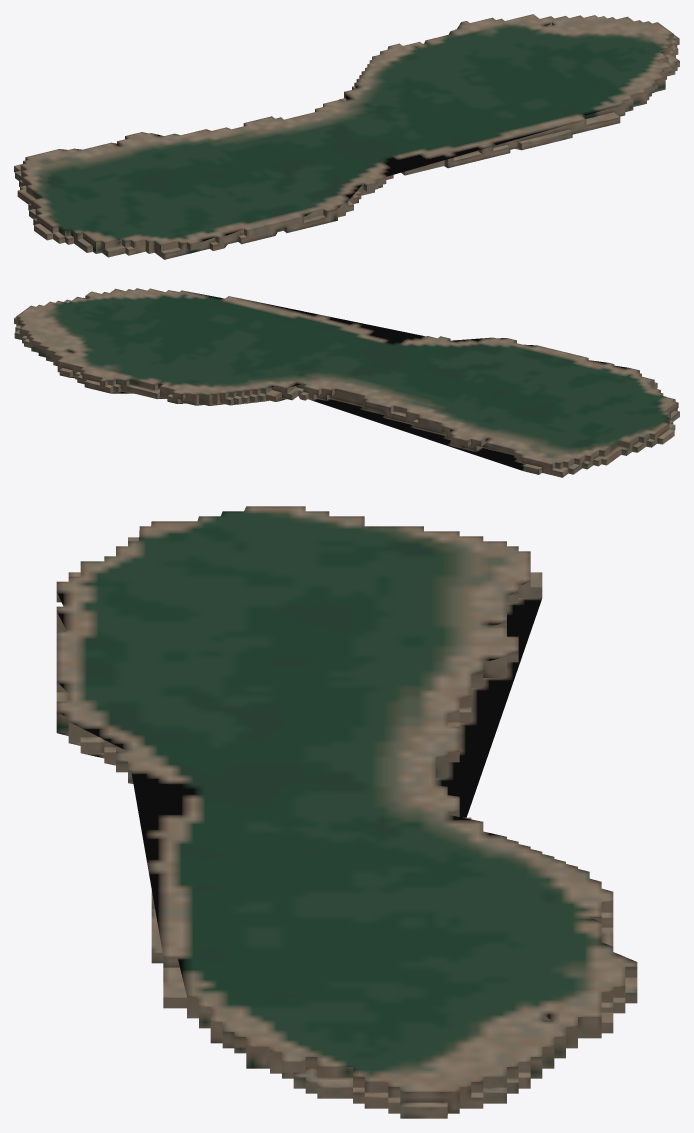
Rendered from ilhaXimba2.fbx.
3 views of the same model, one above another, from view 1: azimuth 30°, elevation 25°; view 2: azimuth 150°, elevation 25°; view 3: azimuth 270°, elevation 25° (orthographic). The views are drawn at different scales.
Visible parts, largest first — view 1: HeightMapMk2-Ximboso-1; view 2: HeightMapMk2-Ximboso-1; view 3: HeightMapMk2-Ximboso-1.
Part boxes in pixels (x1,y1,x2,y2): HeightMapMk2-Ximboso-1: (14,14,679,259); HeightMapMk2-Ximboso-1: (14,288,679,477); HeightMapMk2-Ximboso-1: (56,506,637,1118).
Bounding box in the file's own units: 1190 × 20 × 490.
